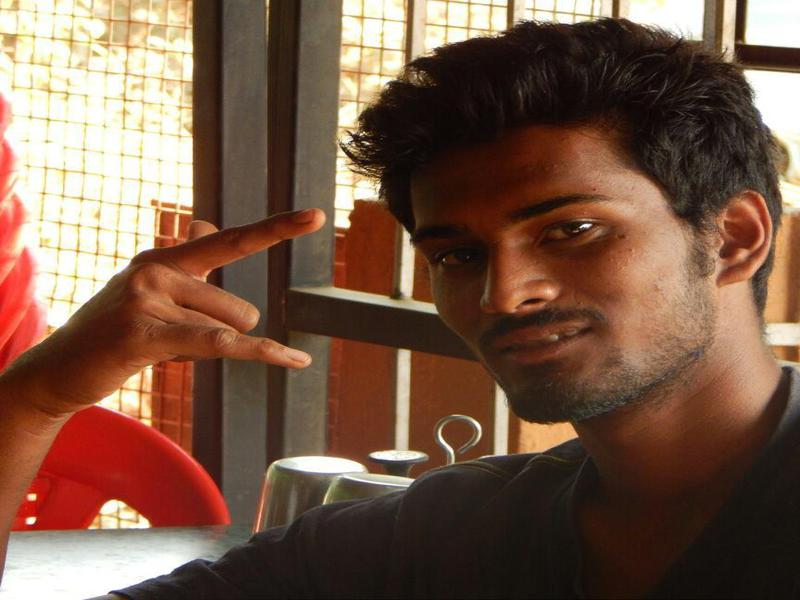without_mask: (402, 134, 716, 431)
